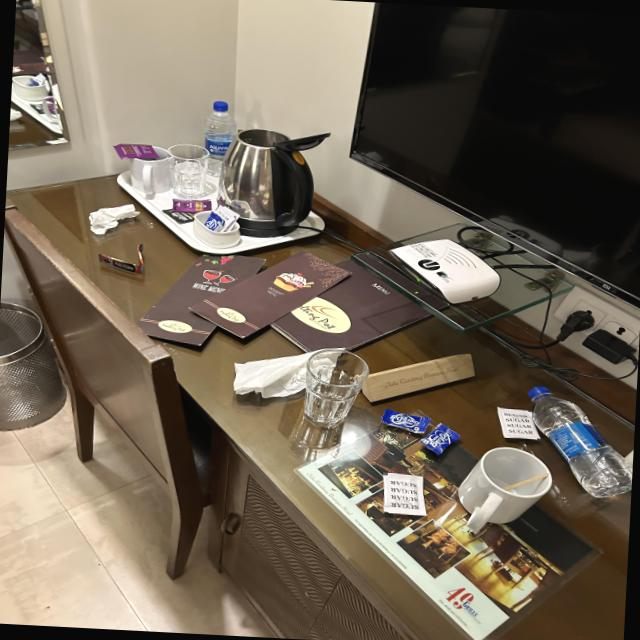mess: (0, 145, 640, 640)
